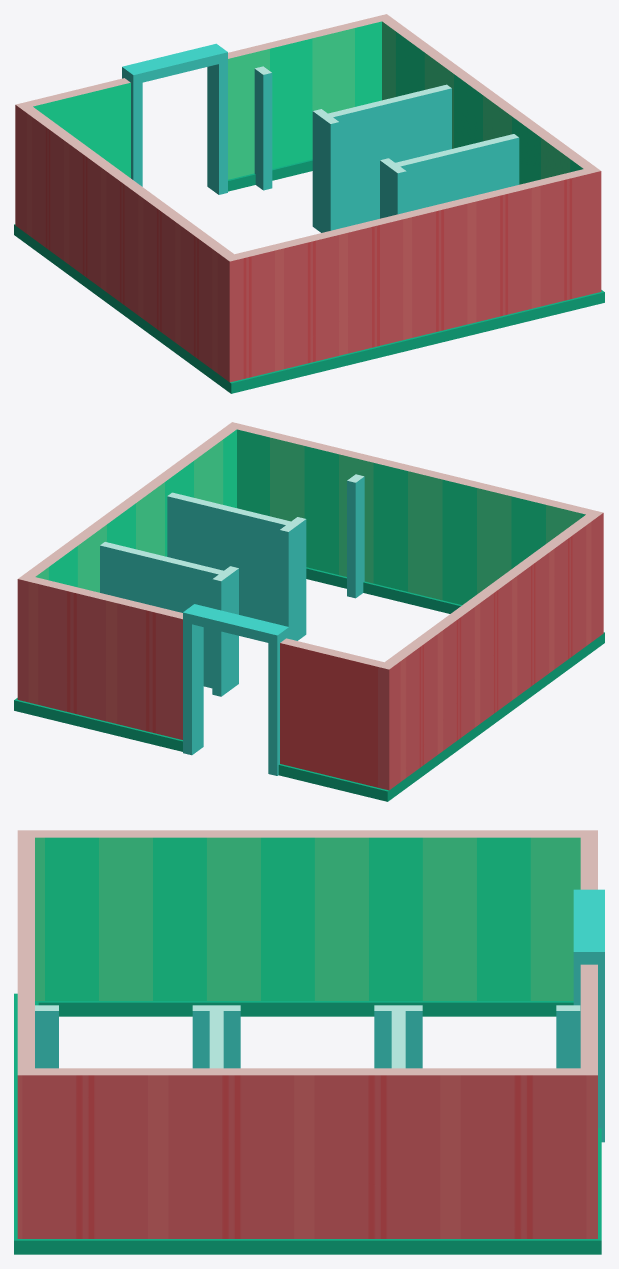
The model's file is Toiletrm_Wall_geo.fbx.
3 renders of one model, top to bottom at view 1: azimuth 30°, elevation 25°; view 2: azimuth 150°, elevation 25°; view 3: azimuth 270°, elevation 25°, orthographic. The views are drawn at different scales.
Visible parts, largest first — view 1: Toiletrm_Wall1_geo, Toiletrm_Wall2_geo; view 2: Toiletrm_Wall1_geo, Toiletrm_Wall2_geo; view 3: Toiletrm_Wall1_geo, Toiletrm_Wall2_geo.
Boxes of the visible parts, box(x1,y1,x2,y2) form: Toiletrm_Wall1_geo: box(14, 14, 604, 393); Toiletrm_Wall2_geo: box(254, 66, 519, 232); Toiletrm_Wall1_geo: box(14, 422, 604, 801); Toiletrm_Wall2_geo: box(100, 474, 364, 696); Toiletrm_Wall1_geo: box(14, 830, 604, 1254); Toiletrm_Wall2_geo: box(35, 1005, 580, 1068).
Size of the model in its own units: 6.07 by 6.14 by 2.18.
